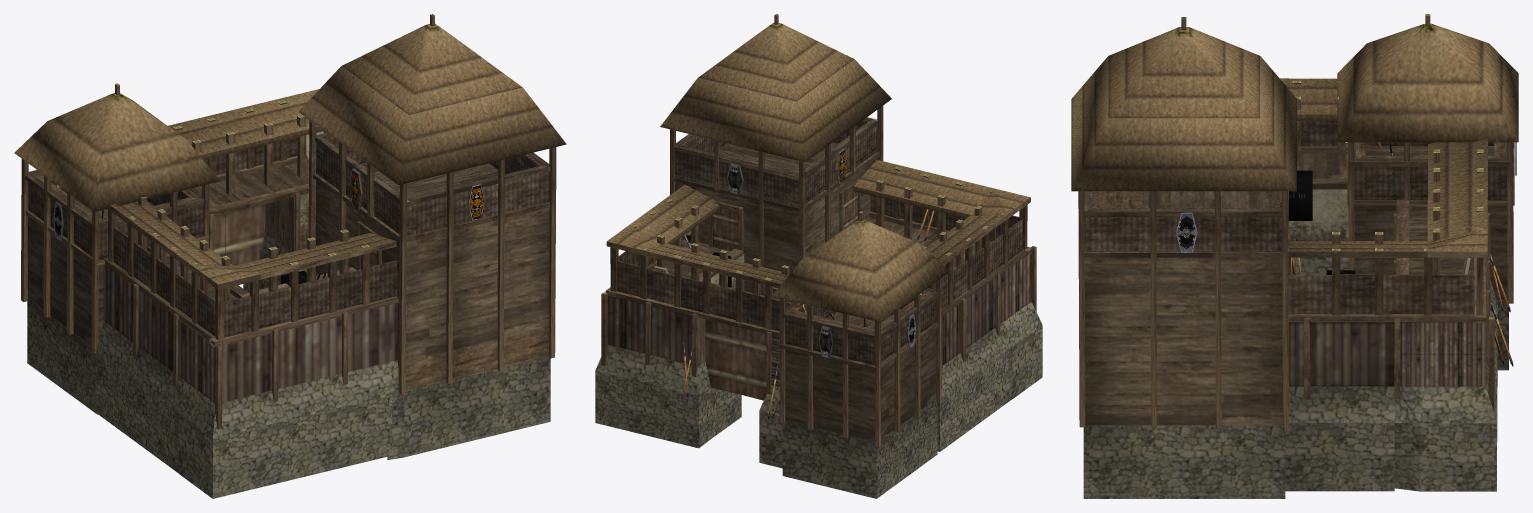
Rendered from germ_fortress.glb.
The picture shows the model from 3 angles, left to right: view 1: azimuth 30°, elevation 25°; view 2: azimuth 150°, elevation 25°; view 3: azimuth 270°, elevation 25°; orthographic projection. The views are drawn at different scales.
Parts seen in each view (by area): view 1: germ_fortress_part0; view 2: germ_fortress_part0, germ_fortress_part1; view 3: germ_fortress_part0, germ_fortress_part1.
Boxes of the visible parts, x1=… form: germ_fortress_part0: x1=14, y1=14, x2=566, y2=498; germ_fortress_part0: x1=595, y1=14, x2=1042, y2=498; germ_fortress_part1: x1=681, y1=209, x2=934, y2=419; germ_fortress_part0: x1=1071, y1=14, x2=1518, y2=498; germ_fortress_part1: x1=1291, y1=142, x2=1513, y2=366.
Size of the model in its own units: 6 by 6.35 by 5.84.
Materials: 2 (2 with a texture image).
